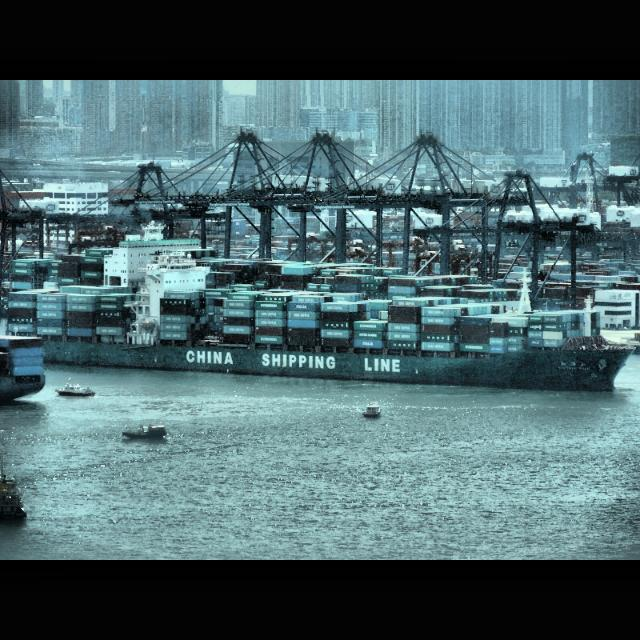container: (0, 233, 638, 393)
